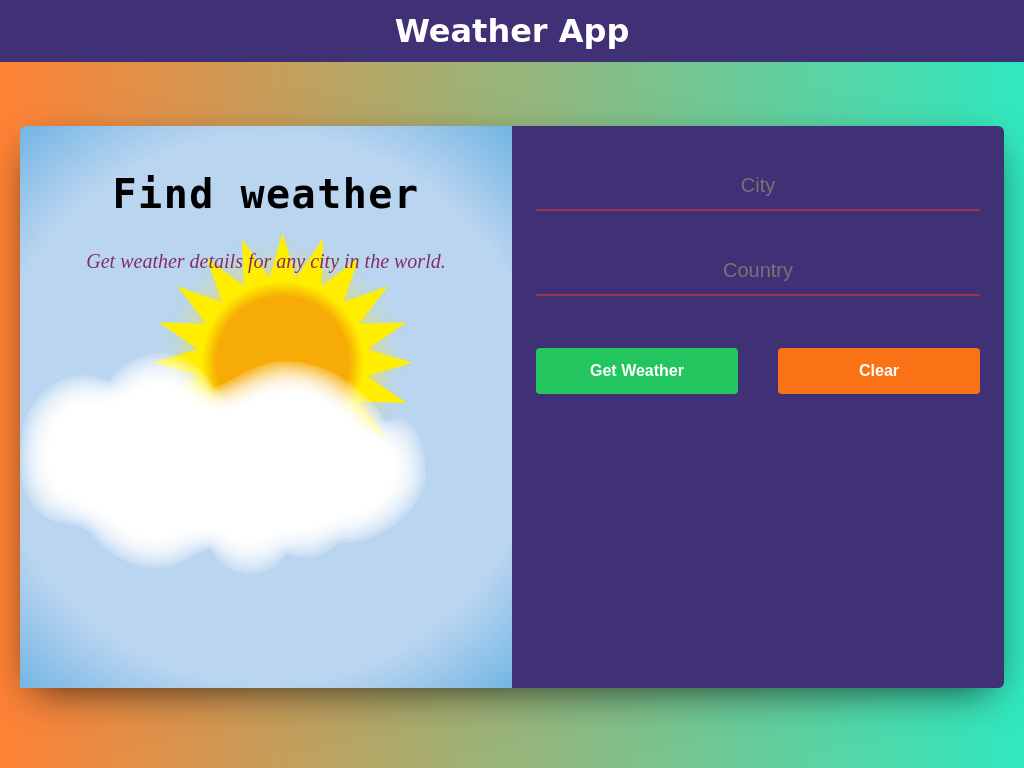
Test: App integration tests › displays error message on API failure
The width and height of the screenshot is (1024, 768).
Step 1. Type "InvalidCity" into the field labelled "City" → (758, 186), box left=536, top=162, right=980, bottom=211
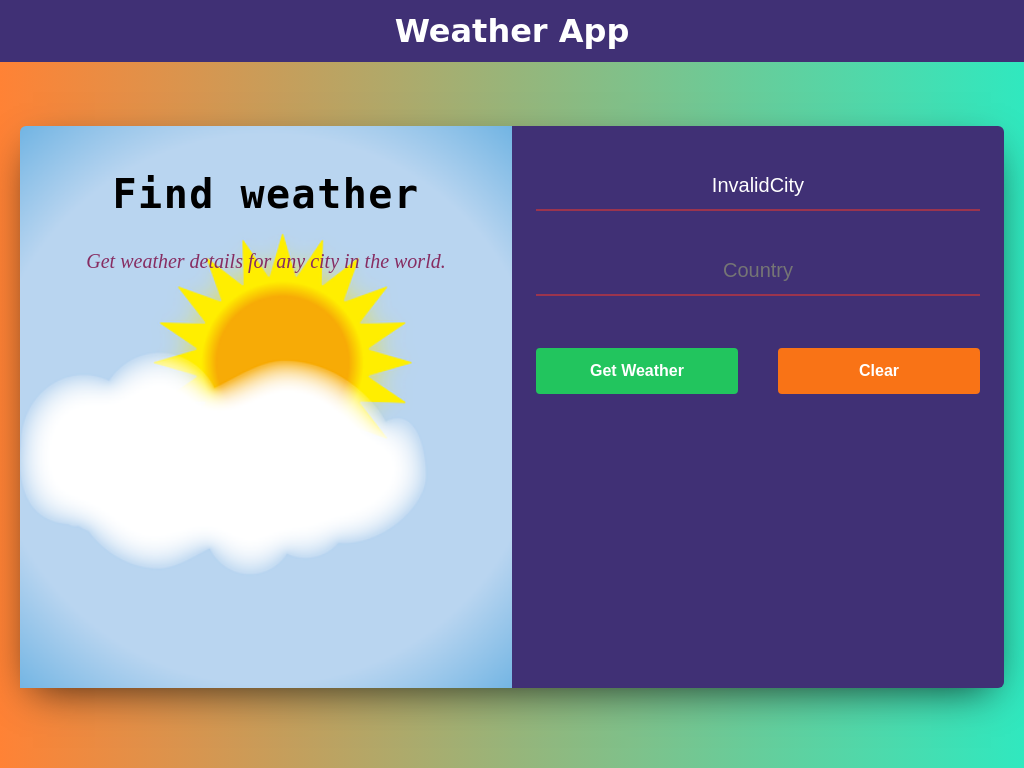
Step 2. Type "InvalidCountry" into the field labelled "Country" → (758, 272), box left=536, top=247, right=980, bottom=296
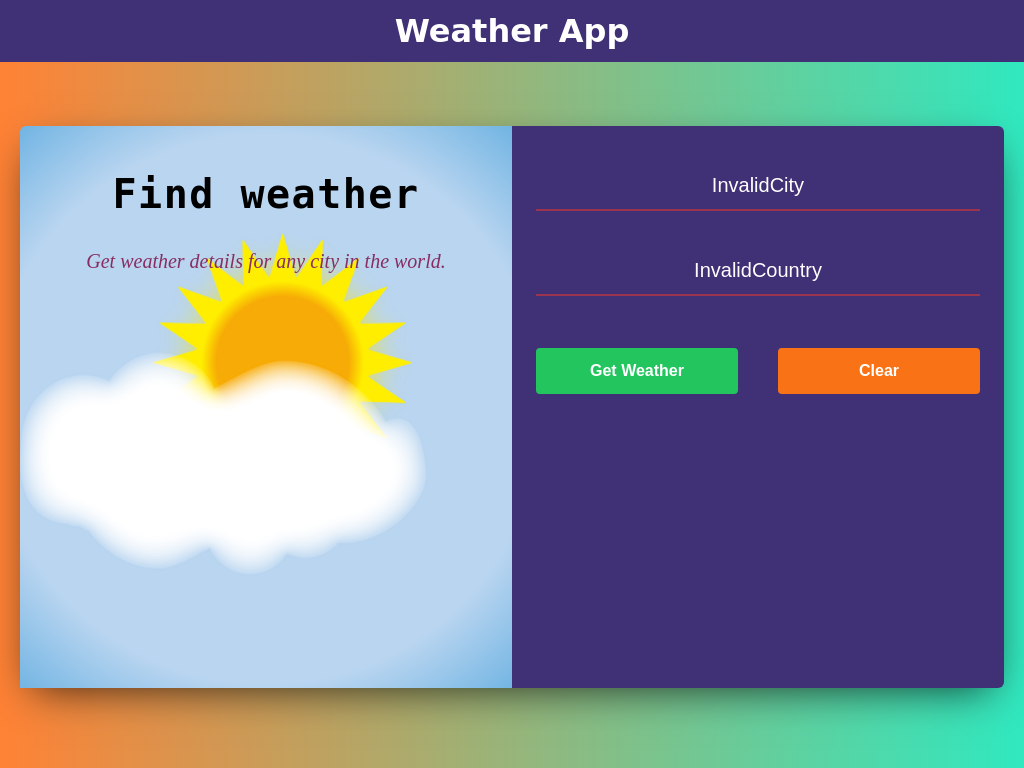
Step 3. Click the button "Get Weather" → (637, 371), box left=536, top=348, right=738, bottom=394
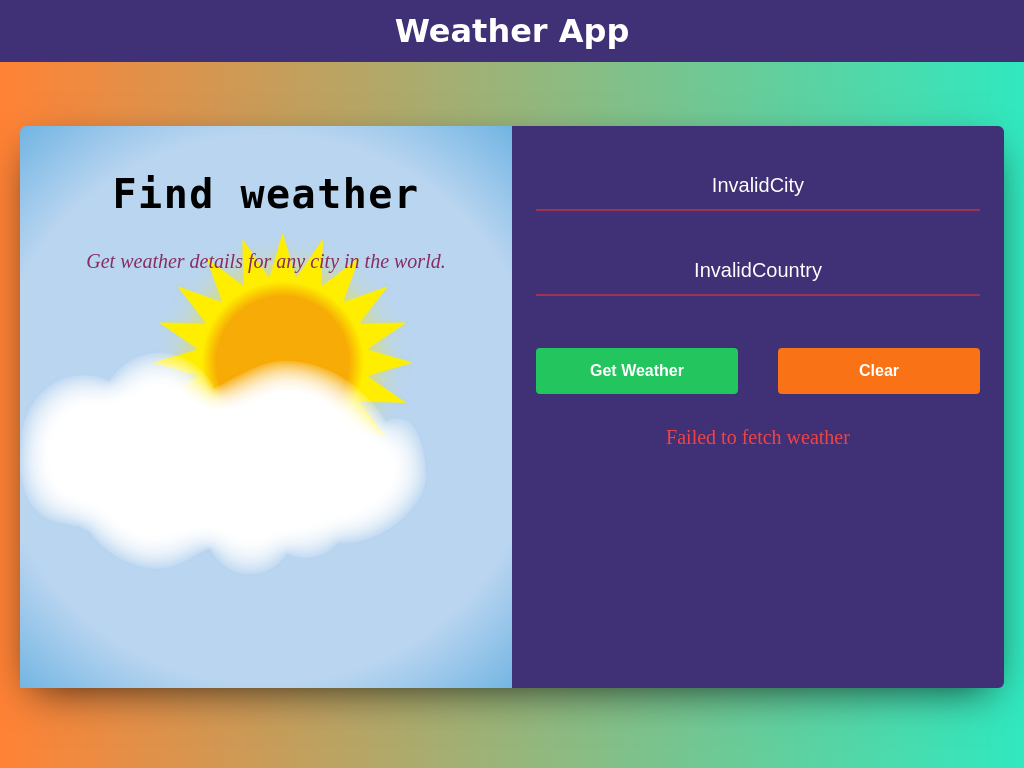
Now the text "Failed to fetch weather" is shown, box left=666, top=426, right=850, bottom=448
